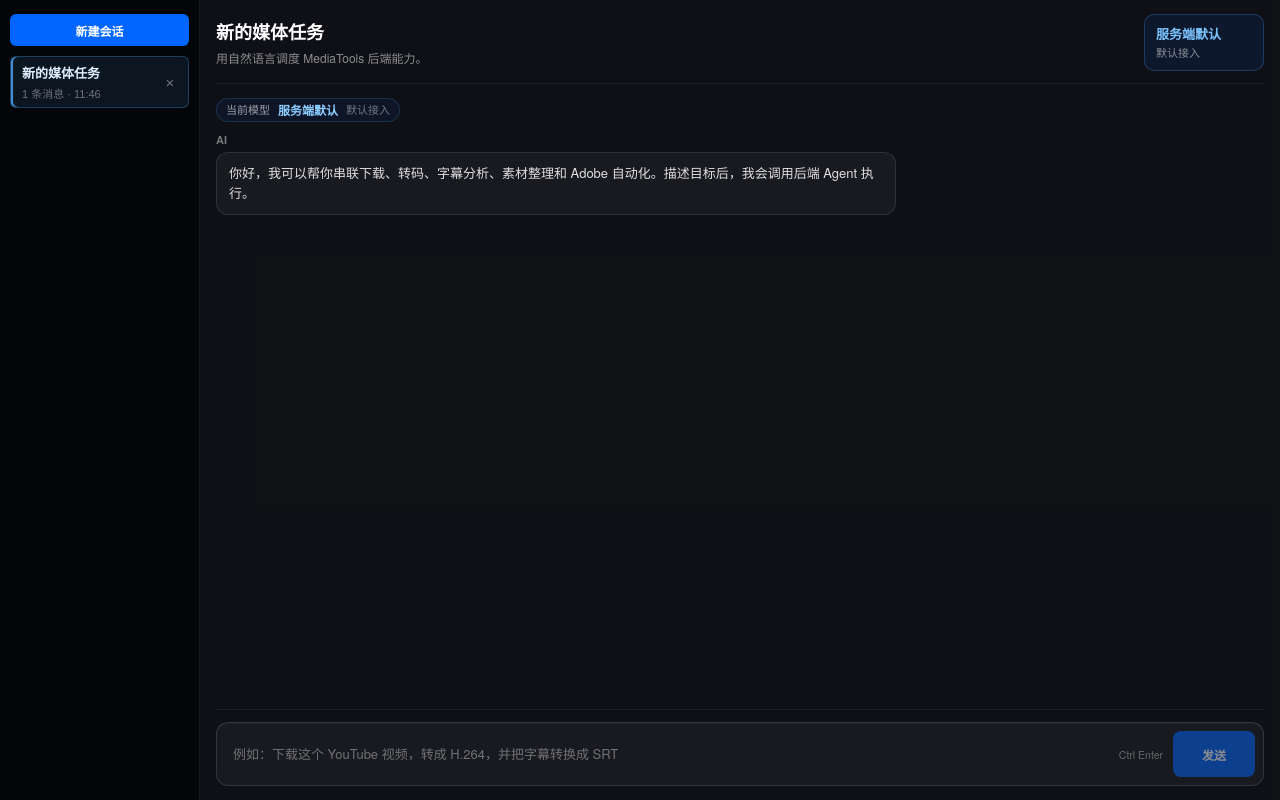
MediaTools utility apps › renders Agent and submits a task through the API
Expected: the button "新建会话" is shown, x1=10 y1=14 x2=189 y2=46
In the text box with placeholder "例如：下载这个 YouTube 视频，转成 H.264，并把字幕转换成 SRT": (667, 754) x1=225 y1=731 x2=1109 y2=777, type "整理今天下载的视频"
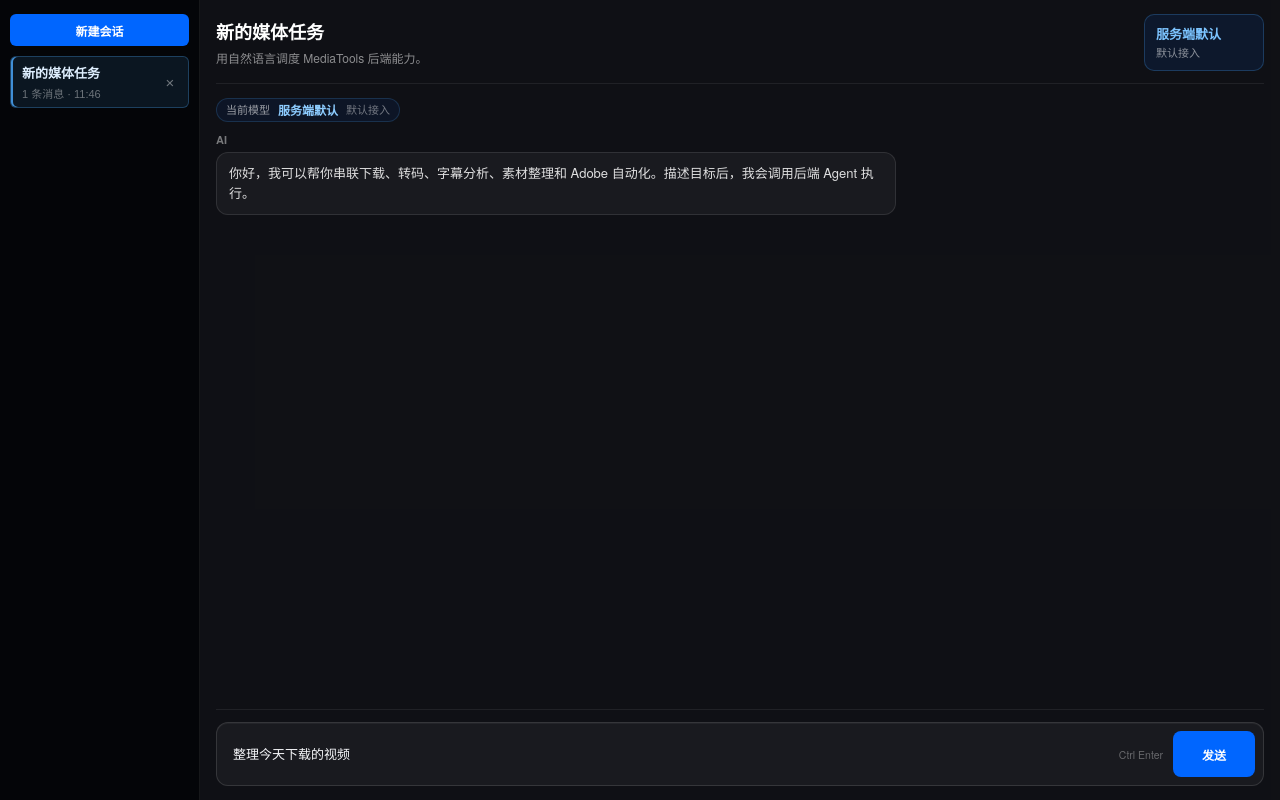
Click the button "发送": (1214, 754) x1=1173 y1=731 x2=1255 y2=777
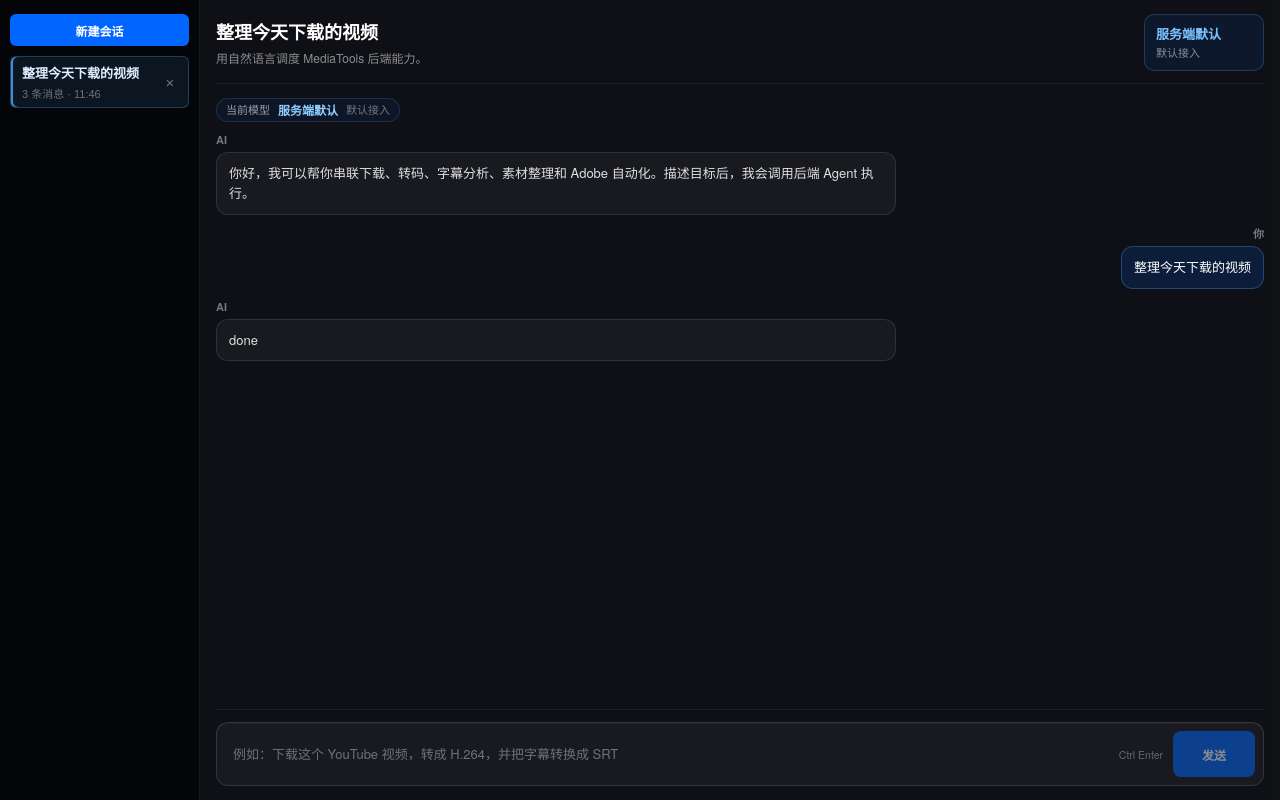
Click the button "新建会话": (100, 30) x1=10 y1=14 x2=189 y2=46
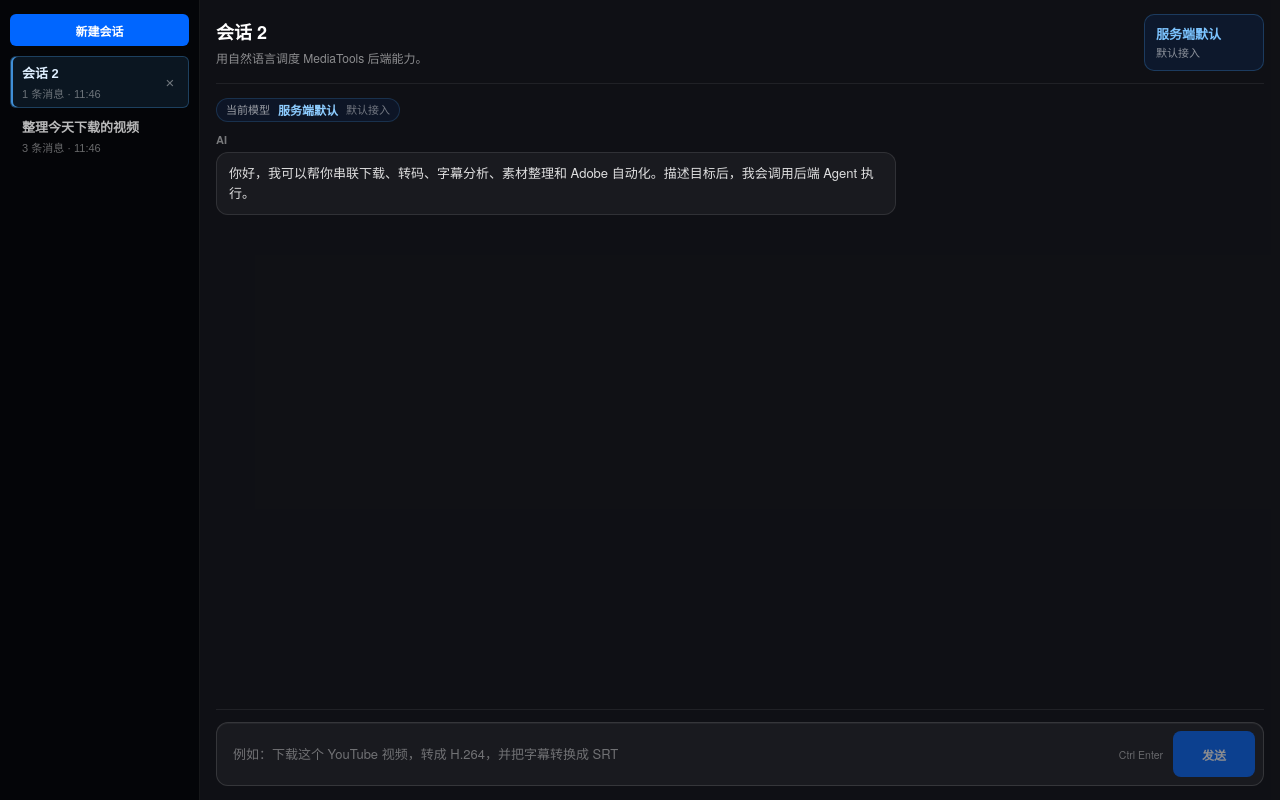
Click the button named "删除会话 会话 2": (170, 82) x1=156 y1=57 x2=184 y2=107
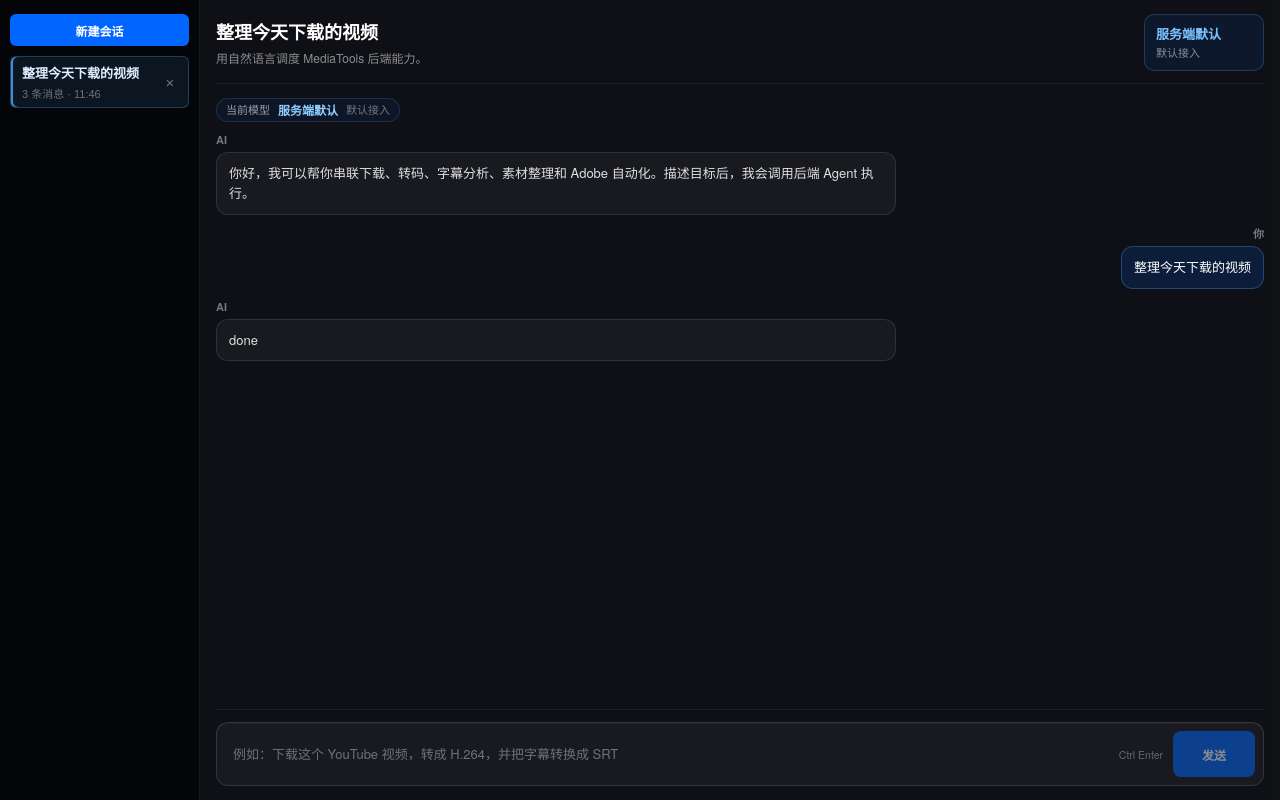
Result: the button "会话 2" is gone
